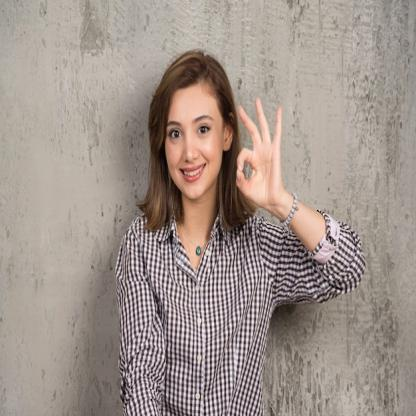ok: (232, 92, 286, 216)
